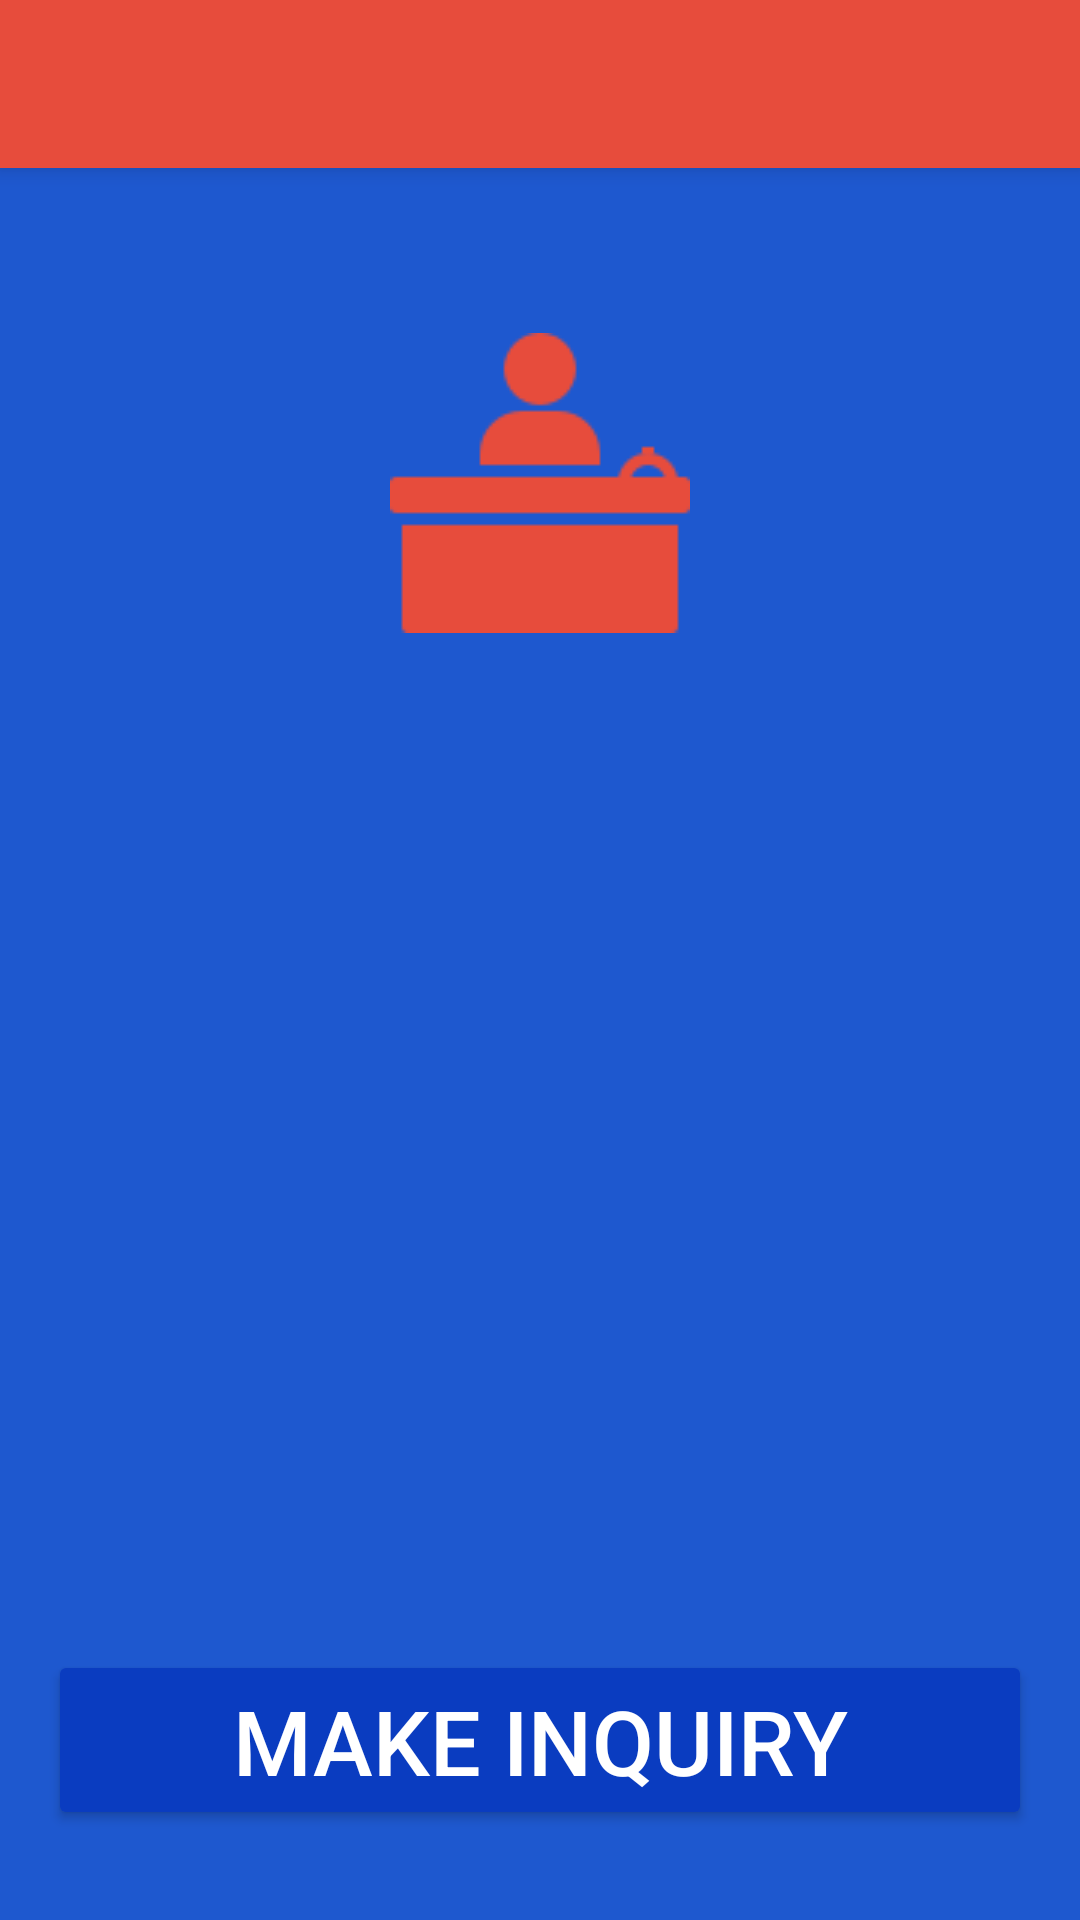

Point at icon controls on the screen. Image size 1080 x 1920, points as (x=x, y=y).
redfrontdesk: (x=540, y=483)
